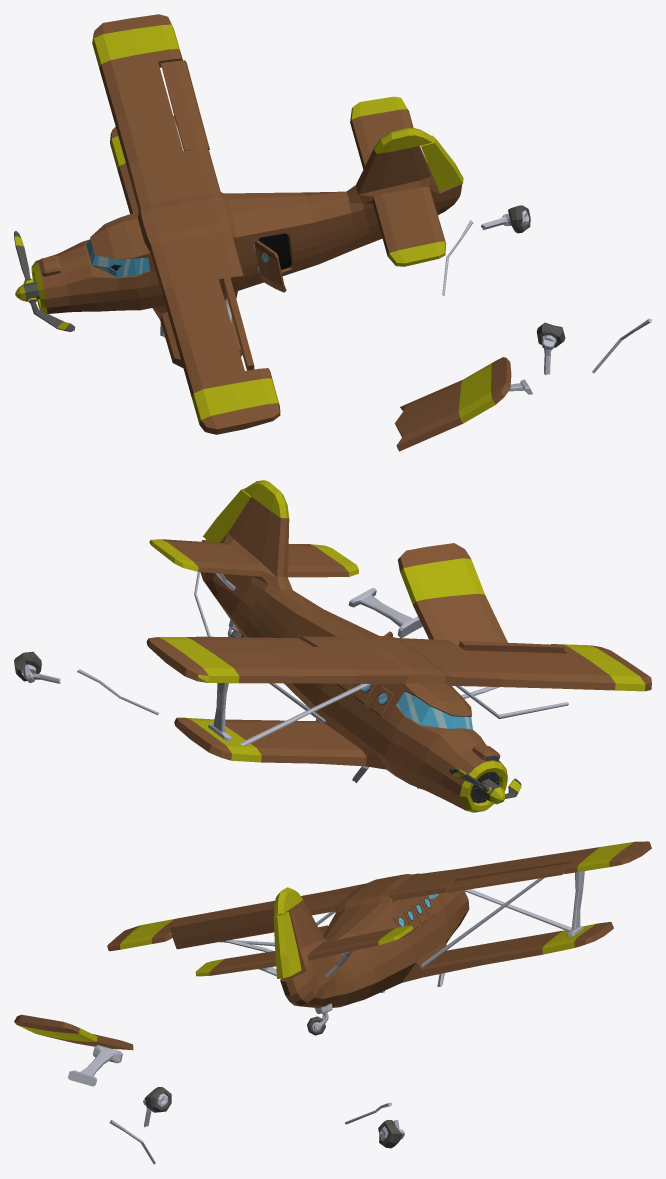
Rendered from air_plane_scene_v2.fbx.
The picture shows the model from 3 angles, top to bottom: view 1: azimuth 30°, elevation 25°; view 2: azimuth 150°, elevation 25°; view 3: azimuth 270°, elevation 25°; orthographic projection. The views are drawn at different scales.
Visible parts, largest first — view 1: Airplane, Krilo_crash, khvost, Krilo_crash_2, Steklo; view 2: Airplane, Krilo_crash, khvost, Krilo_crash_2; view 3: Airplane, Krilo_crash_2, Krilo_crash, khvost.
Boxes of the visible parts, x1,y1,x2,y2 form: Airplane: (14, 14, 651, 434); Krilo_crash: (394, 357, 511, 451); khvost: (421, 135, 463, 190); Krilo_crash_2: (223, 275, 254, 370); Steklo: (92, 255, 135, 276); Airplane: (14, 480, 651, 812); Krilo_crash: (398, 543, 507, 645); khvost: (203, 488, 251, 542); Krilo_crash_2: (458, 641, 564, 653); Airplane: (68, 841, 651, 1164); Krilo_crash_2: (170, 908, 275, 949); Krilo_crash: (14, 1014, 133, 1050); khvost: (273, 911, 301, 978).
Bounding box in the file's own units: 23.06 × 10.29 × 27.33.
1 material, 1 textured.
